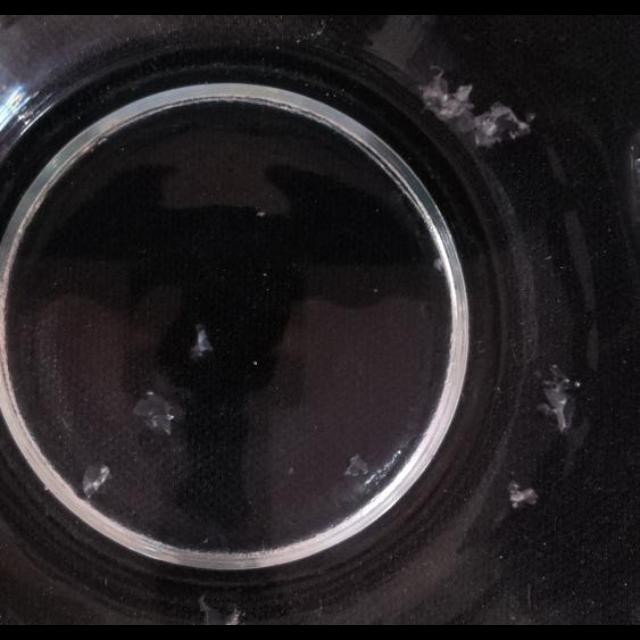Fibre: (328, 448, 388, 512), (538, 368, 580, 434), (472, 102, 532, 146), (132, 390, 182, 436), (199, 594, 241, 624), (82, 462, 112, 498), (188, 327, 214, 361), (508, 481, 538, 509), (344, 454, 371, 478), (433, 256, 445, 274)
microbeads: (256, 210, 266, 218), (573, 379, 581, 388), (288, 466, 294, 476), (545, 253, 553, 260), (253, 360, 259, 368)
